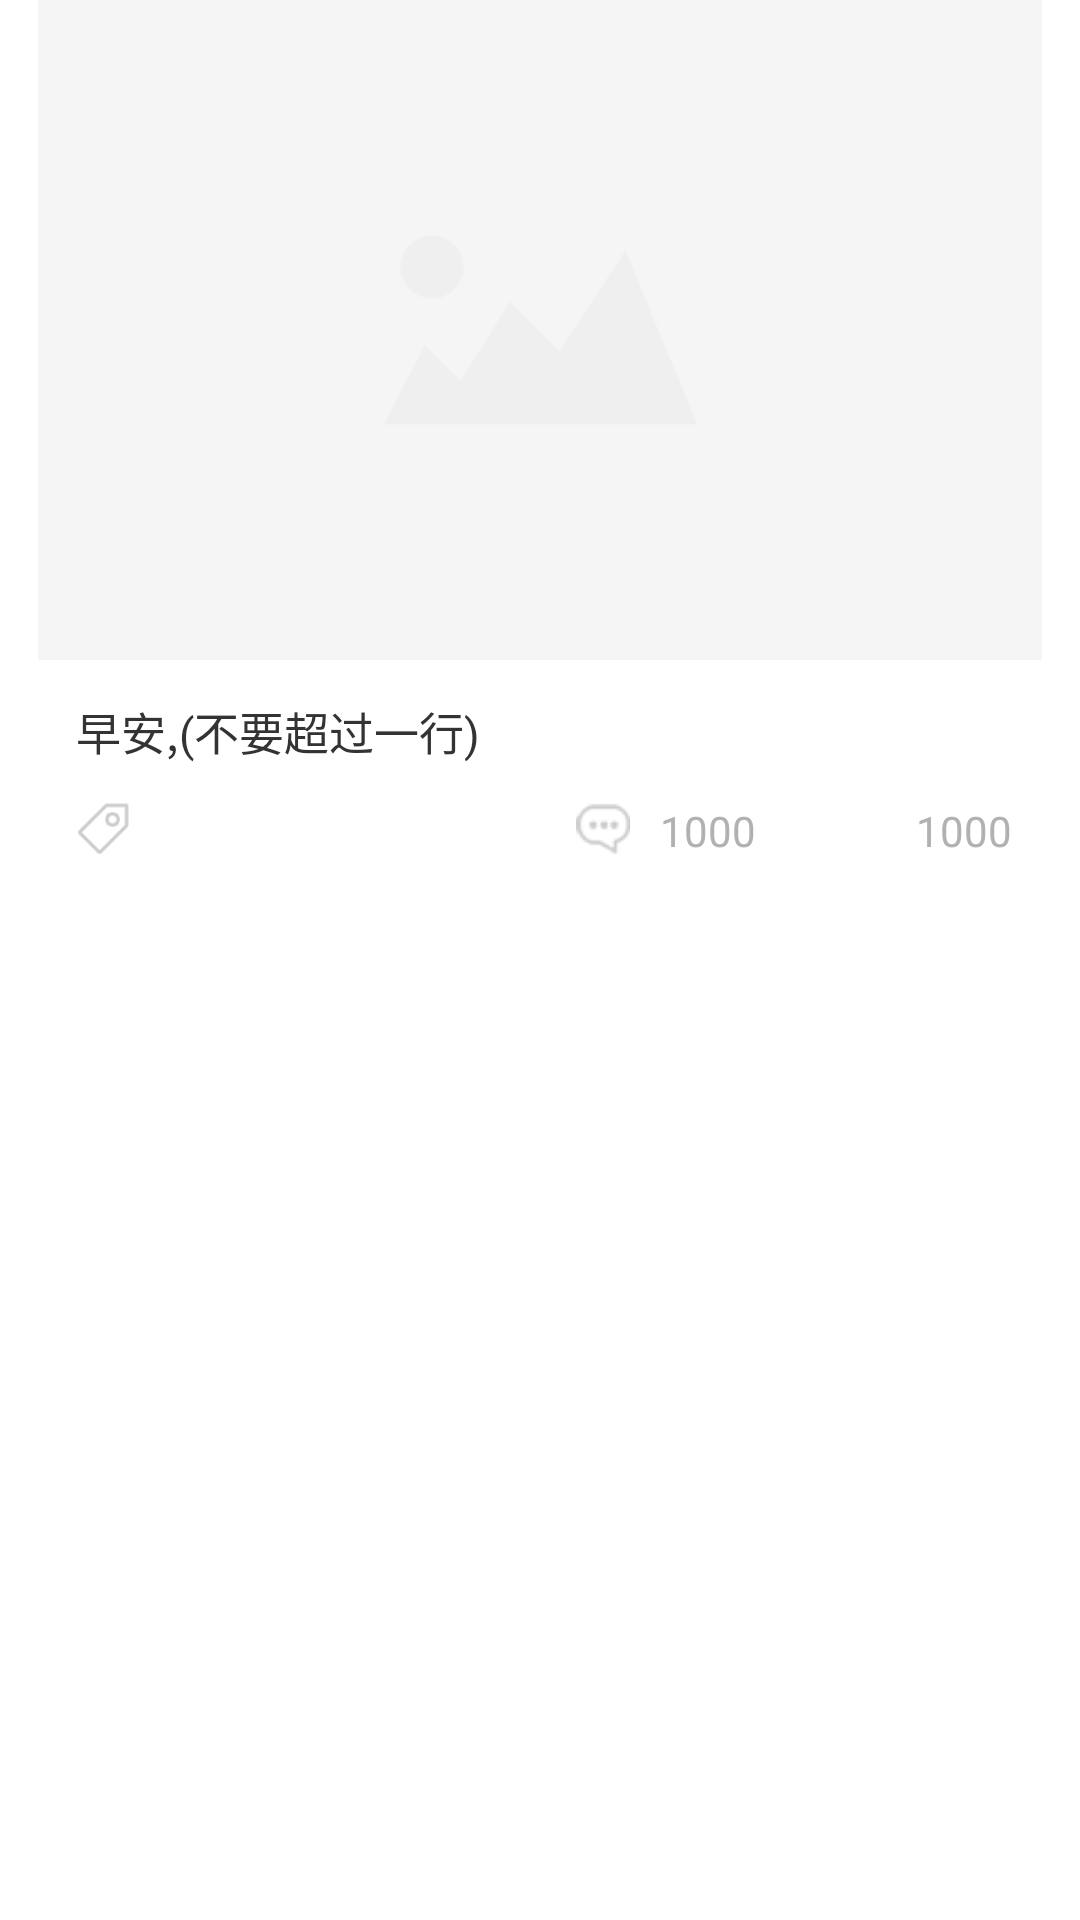

Icons on this 1080w x 1920h Android screen, each with its box as (x1, y1, x2, y2):
home comment: (576, 804, 630, 853)
personal tag: (78, 804, 128, 854)
